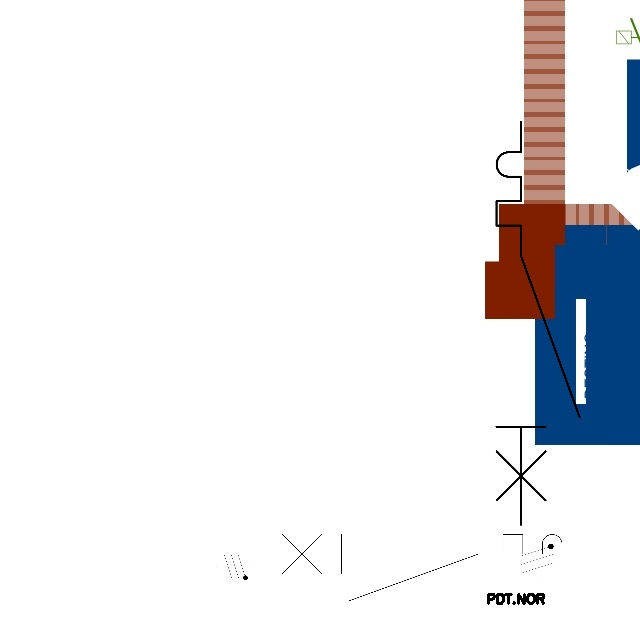interruptor_termomagnetico: (486, 111, 590, 535), (254, 526, 594, 609)
